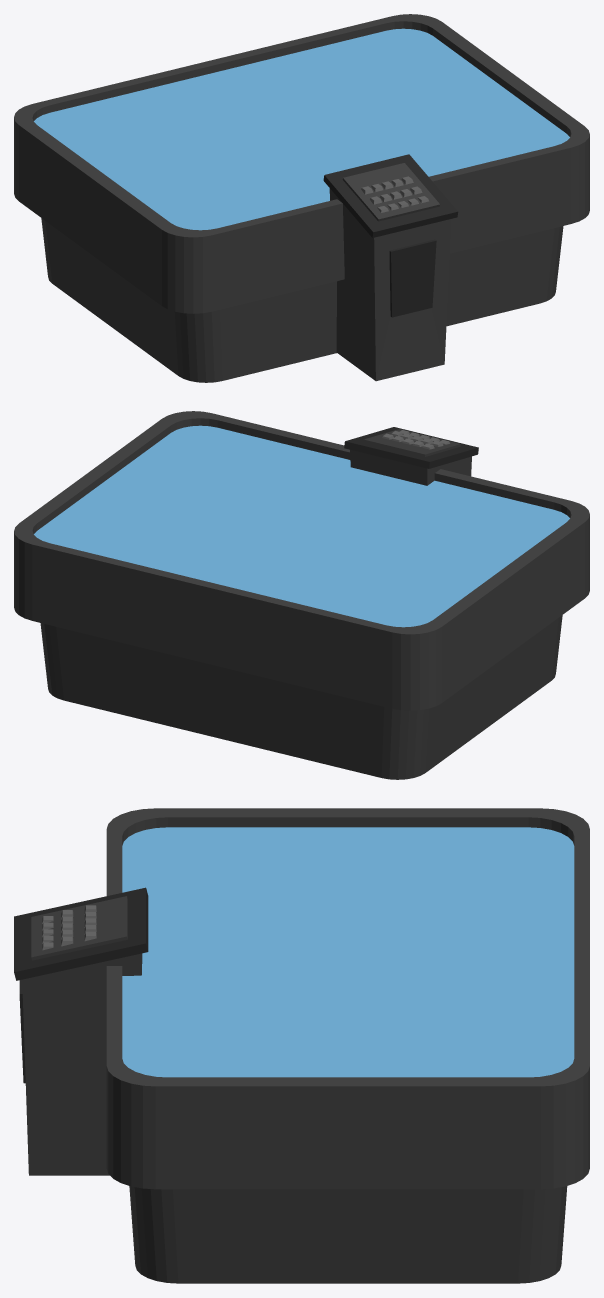
Rendered from console.fbx.
The picture shows the model from 3 angles, top to bottom: view 1: azimuth 30°, elevation 25°; view 2: azimuth 150°, elevation 25°; view 3: azimuth 270°, elevation 25°; orthographic projection. The views are drawn at different scales.
Parts seen in each view (by area): view 1: Cube.001; view 2: Cube.001; view 3: Cube.001.
Part boxes in pixels (x1=…): Cube.001: x1=14, y1=14, x2=589, y2=382; Cube.001: x1=14, y1=411, x2=589, y2=779; Cube.001: x1=14, y1=808, x2=589, y2=1283.
Size of the model in its own units: 491 by 197 by 430.
